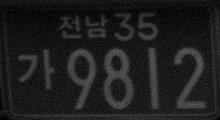1: (145, 46, 161, 111)
2: (172, 45, 209, 111)
3: (112, 11, 134, 42)
5: (137, 11, 158, 41)
8: (103, 46, 135, 110)
9: (65, 47, 97, 111)
가: (17, 48, 57, 92)
전남_O: (58, 12, 108, 40)
